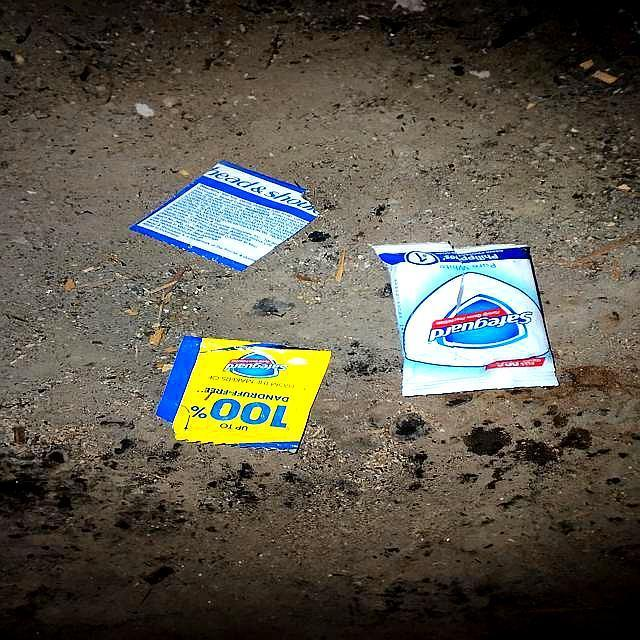Non-biodegradable: (371, 240, 564, 399), (125, 157, 344, 276), (145, 333, 337, 456)
